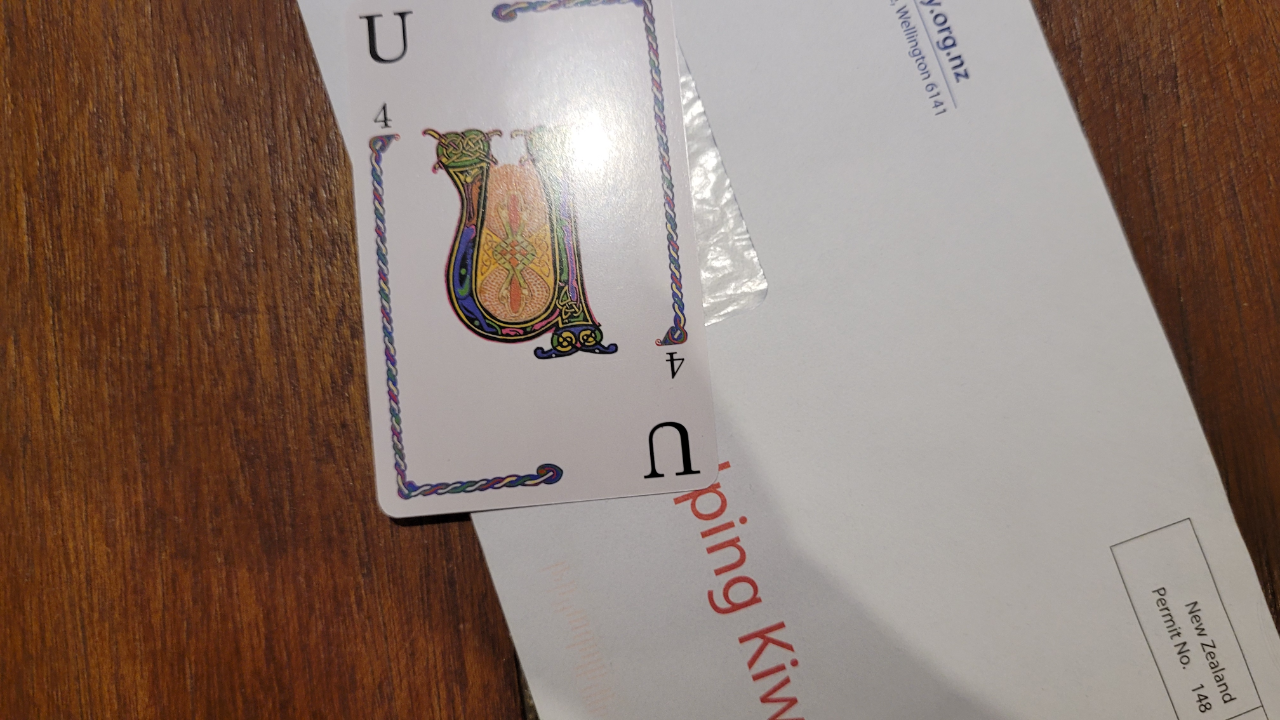quiddler_card: (320, 2, 738, 522)
